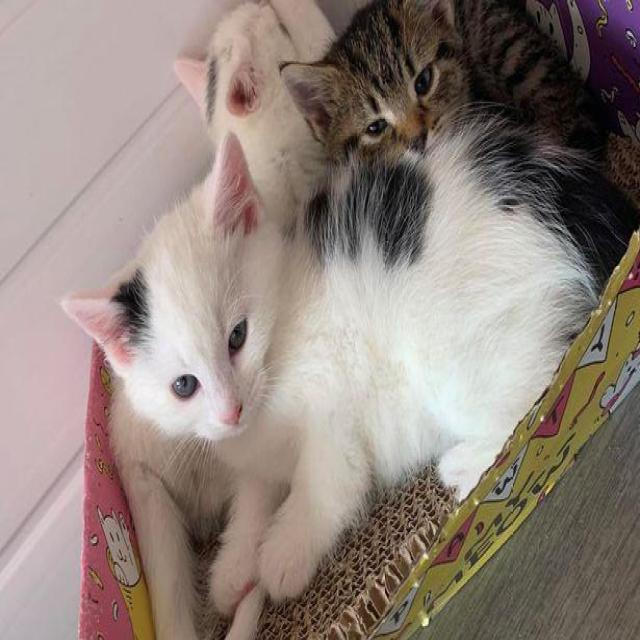Cat: (59, 130, 284, 454), (273, 0, 483, 164), (164, 0, 288, 147)
